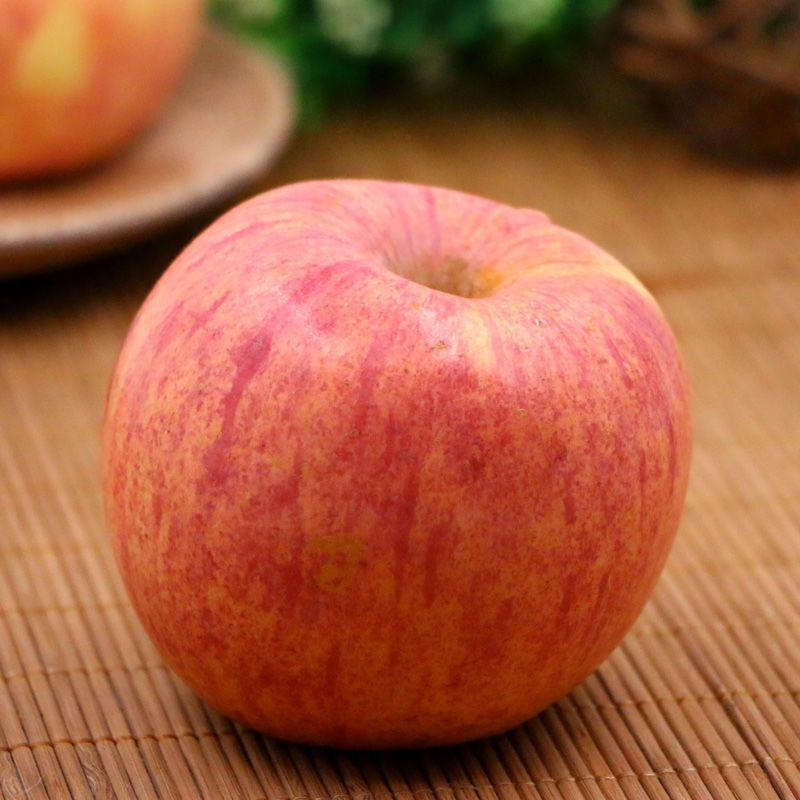apple: (96, 168, 714, 748)
